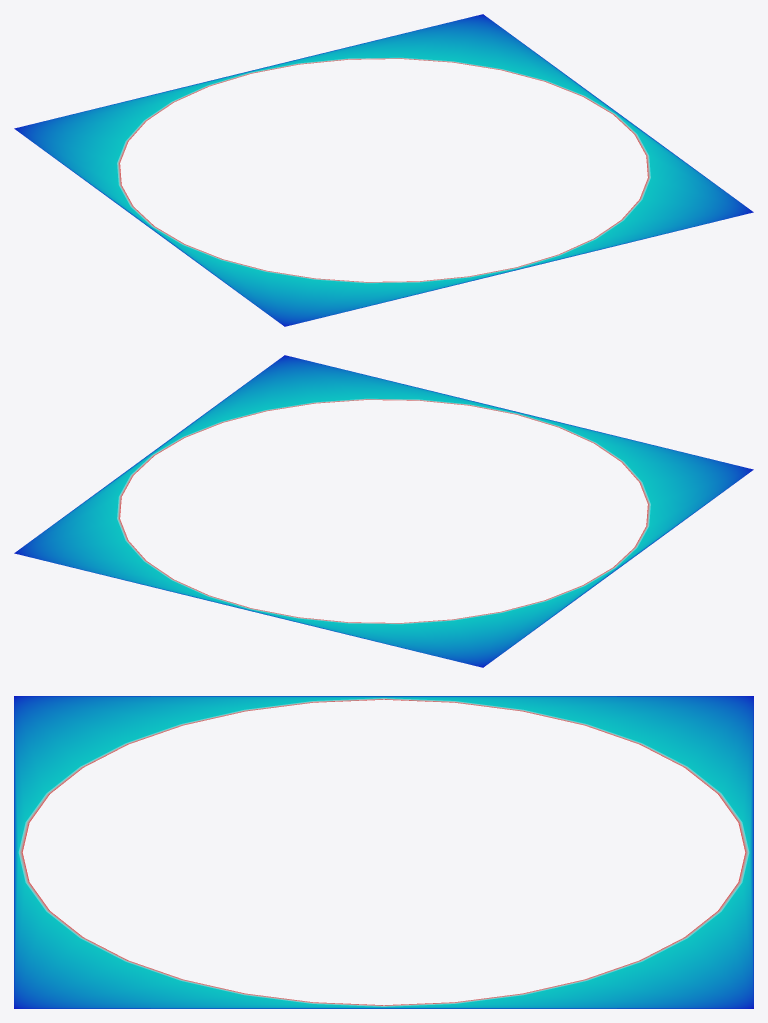
File: Iris.fbx
3 views of the same model, one above another, from view 1: azimuth 30°, elevation 25°; view 2: azimuth 150°, elevation 25°; view 3: azimuth 270°, elevation 25° (orthographic). The views are drawn at different scales.
Parts seen in each view (by area): view 1: Circle; view 2: Circle; view 3: Circle.
Boxes of the visible parts, x1,y1,x2,y2 form: Circle: (14, 14, 753, 326); Circle: (14, 355, 753, 667); Circle: (14, 696, 753, 1008).
Bounding box in the file's own units: 290 × 4.72e-05 × 290.
